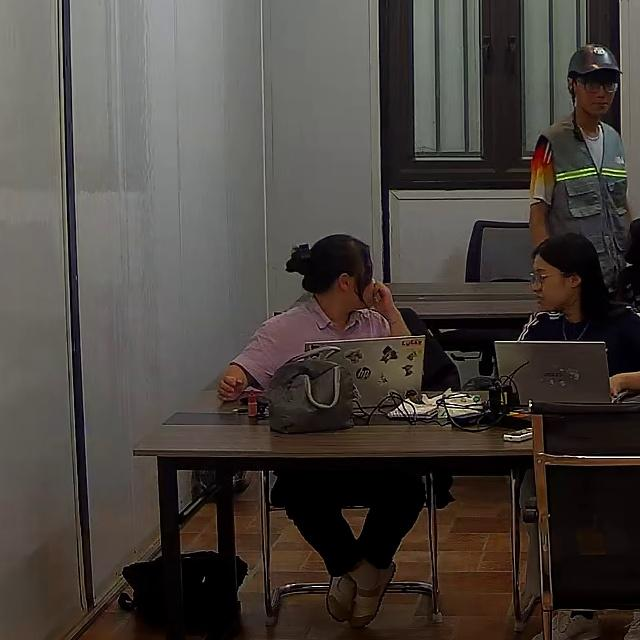helmet: (566, 44, 625, 79)
no_helmet: (531, 231, 624, 320), (288, 234, 373, 299)
none: (228, 296, 390, 396), (518, 305, 637, 381)
vest: (542, 116, 635, 262)
